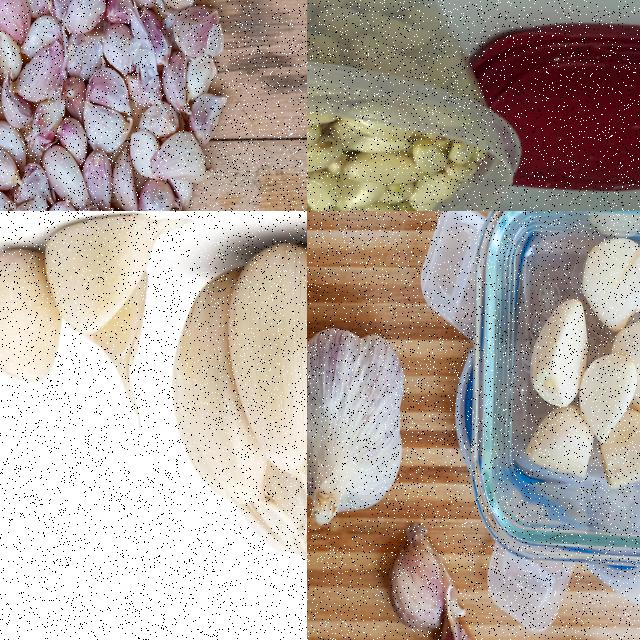garlic: (166, 238, 306, 620), (0, 0, 223, 210), (307, 0, 489, 210), (0, 212, 172, 412), (525, 236, 639, 488), (307, 325, 411, 528), (388, 530, 490, 639)
